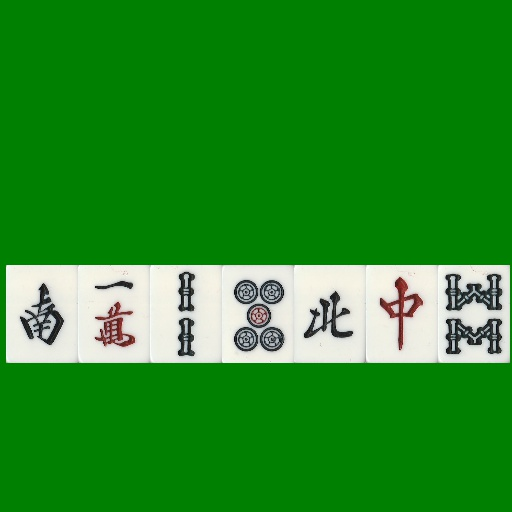1m: (78, 265, 150, 363)
2s: (150, 265, 222, 363)
5p: (222, 265, 294, 363)
8s: (438, 265, 510, 363)
north: (294, 265, 366, 363)
south: (6, 265, 78, 363)
tyun: (366, 265, 438, 363)
